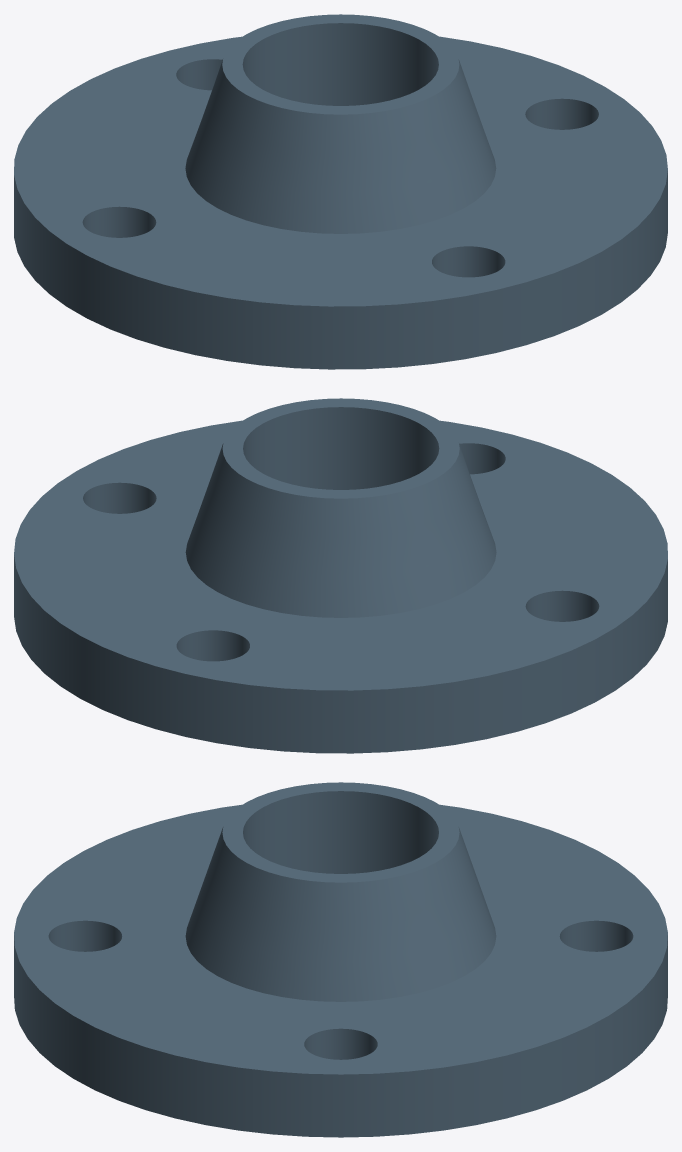
Rendered from flanec-vorotnikovyj-DN50-PN40.glb.
The picture shows the model from 3 angles, top to bottom: view 1: azimuth 30°, elevation 25°; view 2: azimuth 150°, elevation 25°; view 3: azimuth 270°, elevation 25°; orthographic projection.
Parts seen in each view (by area): view 1: Open CASCADE STEP translator 7.9 82; view 2: Open CASCADE STEP translator 7.9 82; view 3: Open CASCADE STEP translator 7.9 82.
Part boxes in pixels (box(x1,y1,x2,y2)): Open CASCADE STEP translator 7.9 82: box(14, 14, 667, 369); Open CASCADE STEP translator 7.9 82: box(14, 398, 667, 753); Open CASCADE STEP translator 7.9 82: box(14, 782, 667, 1137).
Bounding box in the file's own units: 160 × 48 × 160.
